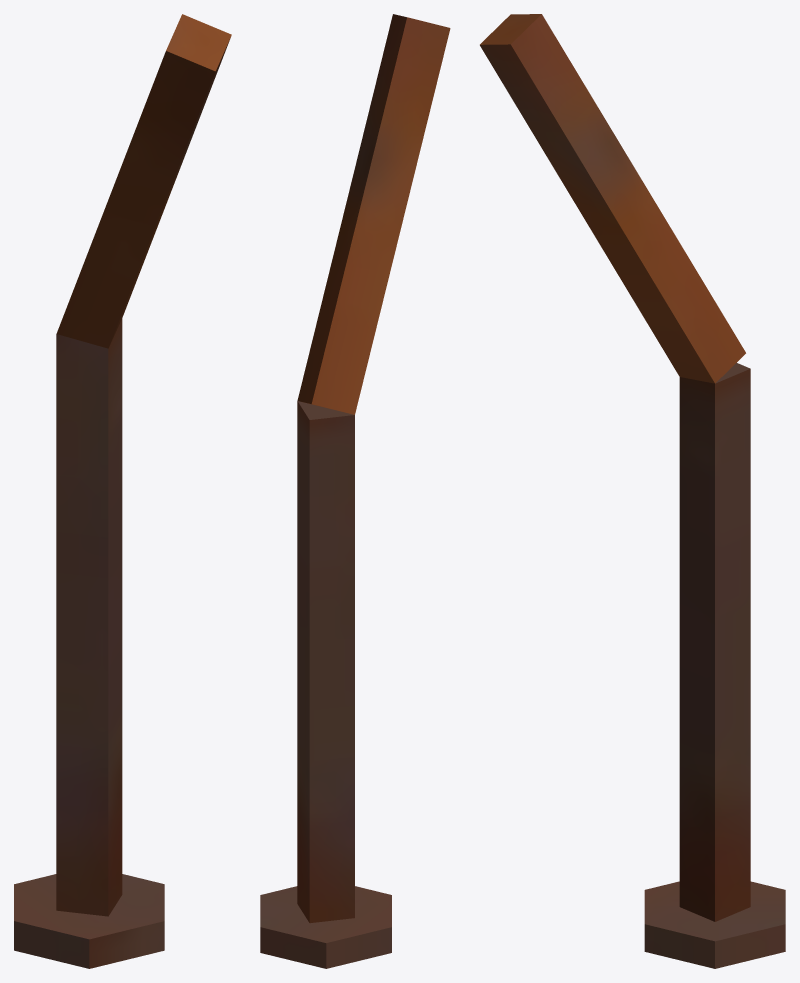
The model's file is Nail.glb.
The picture shows the model from 3 angles, left to right: view 1: azimuth 30°, elevation 25°; view 2: azimuth 150°, elevation 25°; view 3: azimuth 270°, elevation 25°; orthographic projection. The views are drawn at different scales.
Parts seen in each view (by area): view 1: Nail; view 2: Nail; view 3: Nail.
Boxes of the visible parts, x1,y1,x2,y2 form: Nail: (14,14,231,968); Nail: (260,14,450,968); Nail: (480,14,785,968).
Size of the model in its own units: 0.016 by 0.1 by 0.0301.
Materials: 1 (1 with a texture image).
